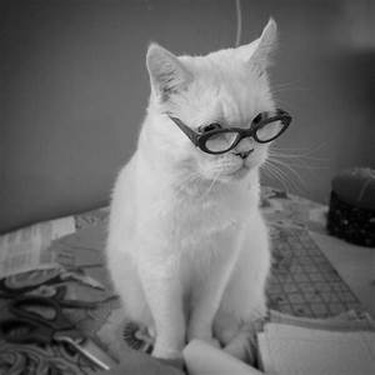cat: (100, 17, 282, 360)
